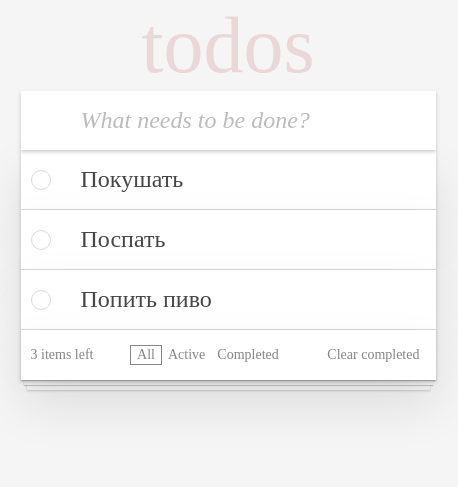
Test: events › user add new todo
The image size is (458, 487).
Type "React" into the field at {"x": 228, "y": 120}, box [20,91,436,150]
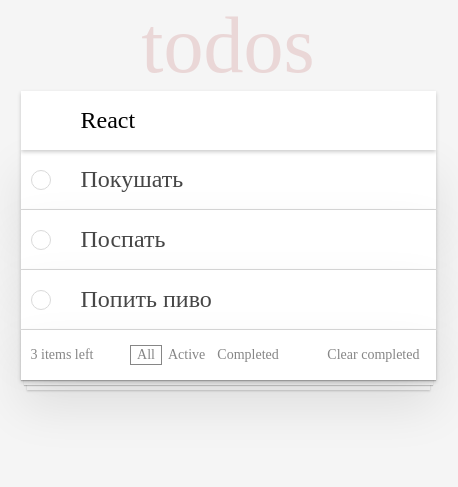
Press Enter
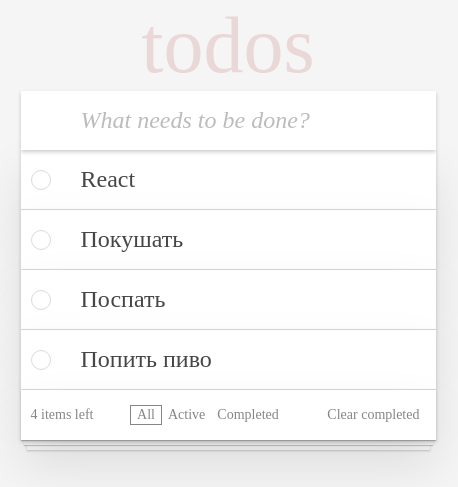
Result: the text "React" is shown at [80,166,135,193]
